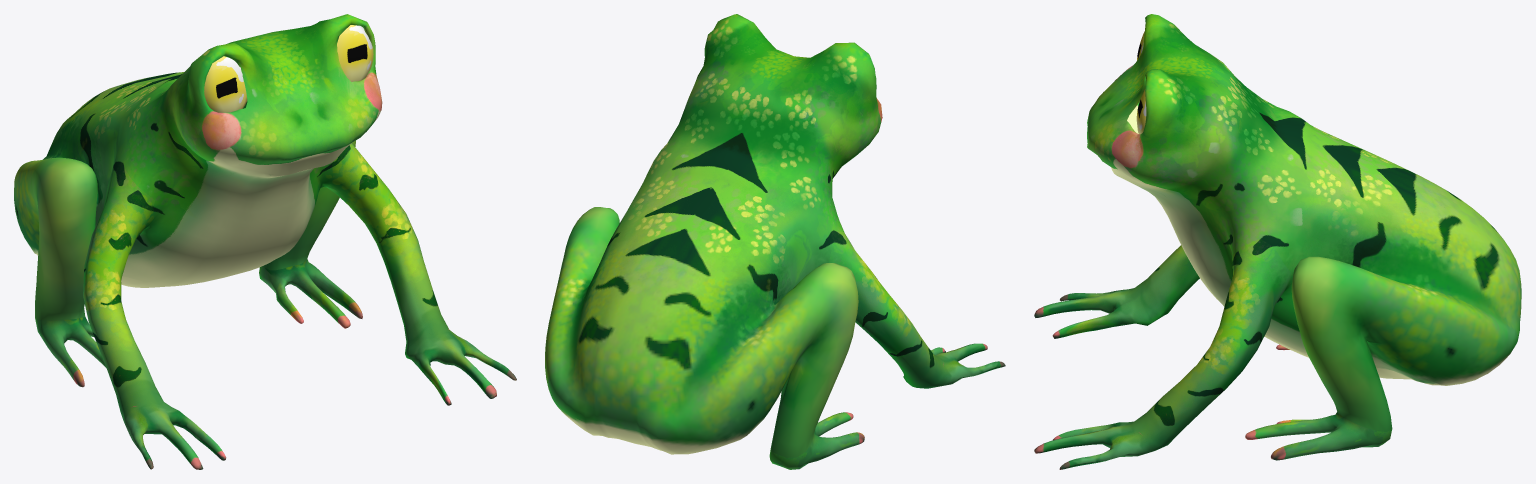
Rendered from sapo.fbx.
The picture shows the model from 3 angles, left to right: view 1: azimuth 30°, elevation 25°; view 2: azimuth 150°, elevation 25°; view 3: azimuth 270°, elevation 25°; orthographic projection. The views are drawn at different scales.
Parts seen in each view (by area): view 1: retopo_sapo.002; view 2: retopo_sapo.002; view 3: retopo_sapo.002.
Boxes of the visible parts, x1,y1,x2,y2 form: retopo_sapo.002: [14, 14, 516, 469]; retopo_sapo.002: [545, 14, 1005, 469]; retopo_sapo.002: [1034, 14, 1521, 469].
Size of the model in its own units: 132 by 127 by 160.
1 material, 1 textured.
